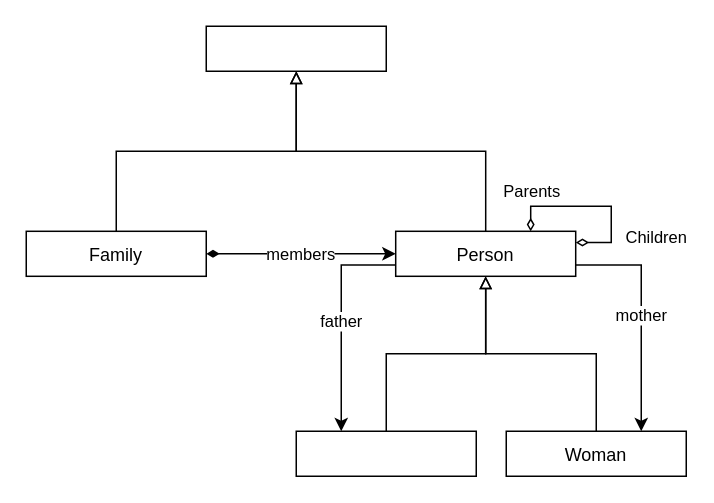
The diagram is 714 pixels wide and 503 high, and some of its shapes have lost their labels. Each missing label, with the centre of its shape:
Man: pixel 385 453
NamedElement: pixel 295 48
